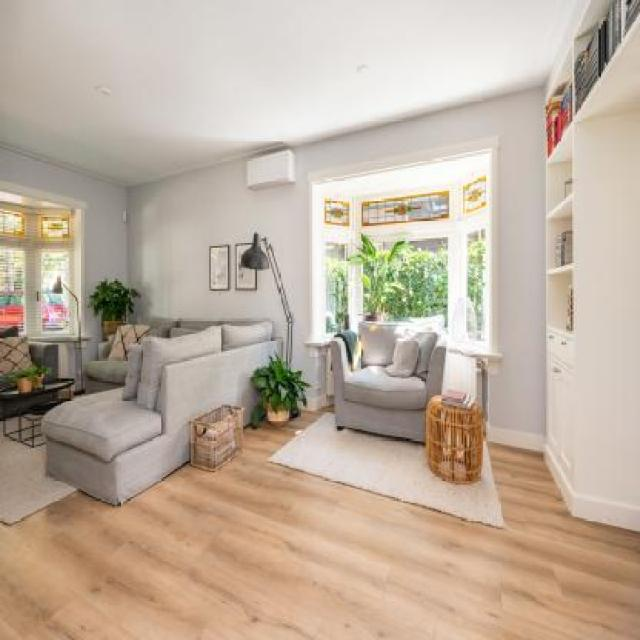floor: (0, 401, 640, 638)
